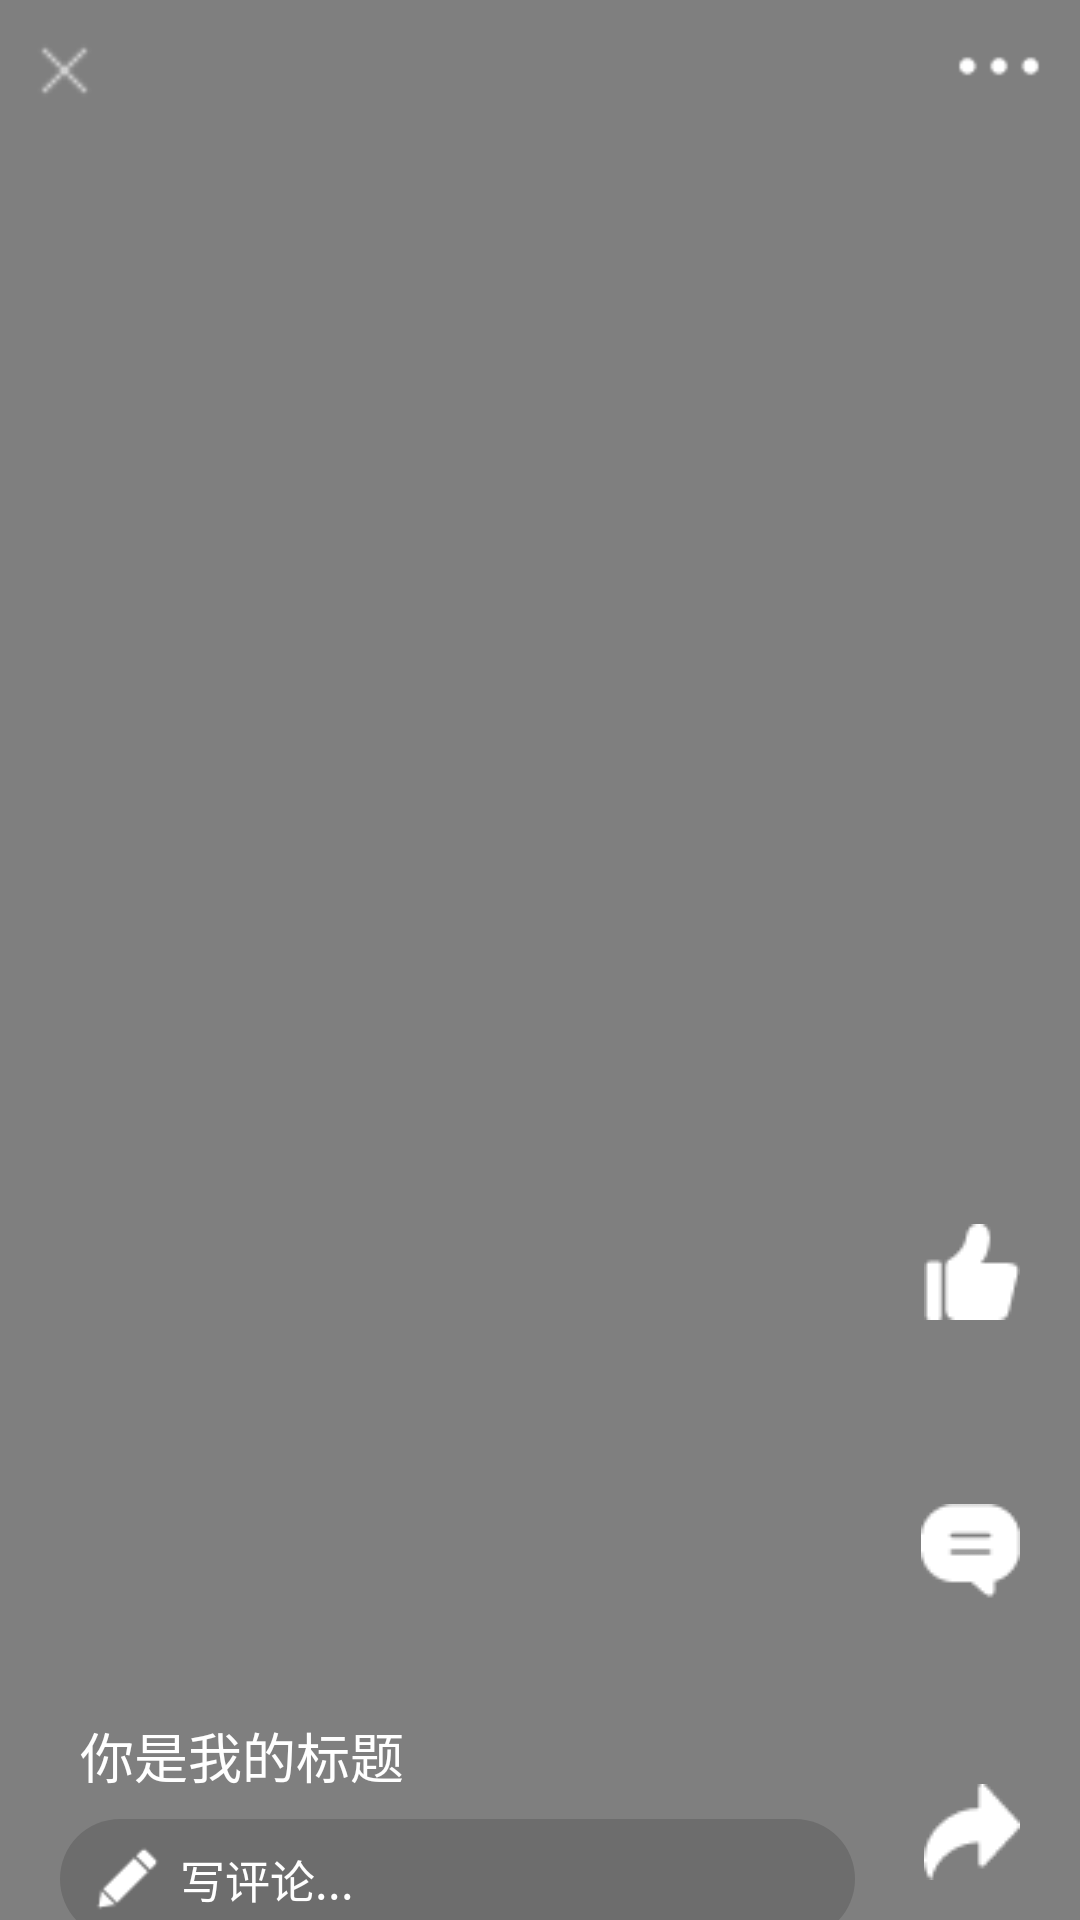

Named icons in this screenshot (1080x1920) and their centers, point (x, y):
pen: point (127, 1879)
video comment: point (970, 1550)
video share: point (972, 1832)
video share more: point (999, 66)
